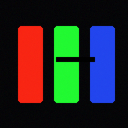3 line_h: (56, 57, 94, 61)
